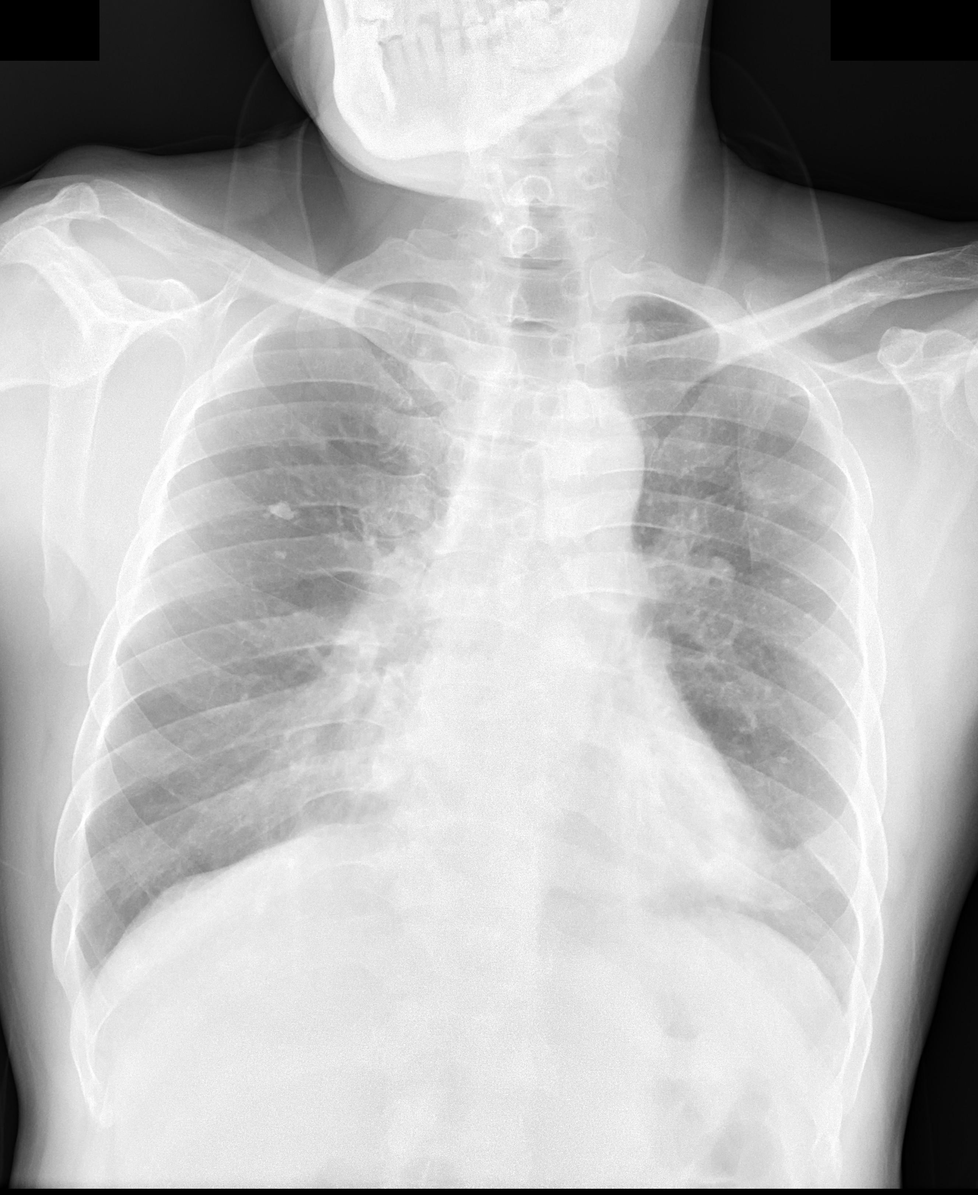Pleural thickening: (66, 955, 122, 1006)
Pulmonary fibrosis: (740, 477, 836, 629)
